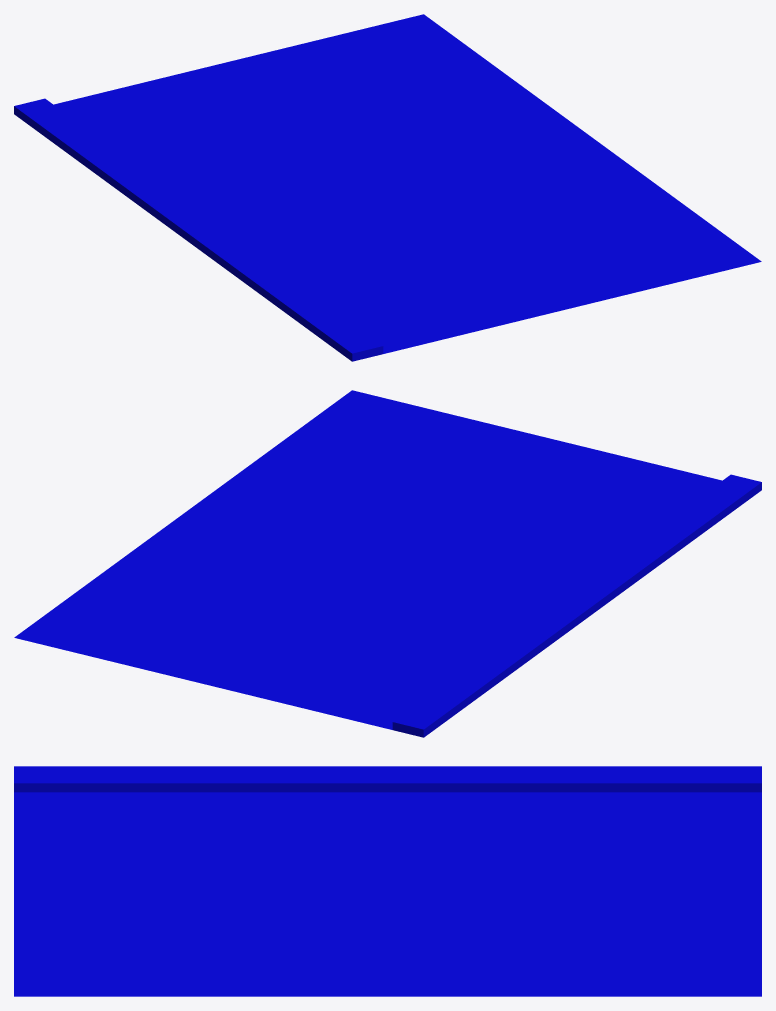
The model's file is path.fbx.
3 renders of one model, top to bottom at view 1: azimuth 30°, elevation 25°; view 2: azimuth 150°, elevation 25°; view 3: azimuth 270°, elevation 25°, orthographic. The views are drawn at different scales.
Visible parts, largest first — view 1: polySurface94; view 2: polySurface94; view 3: polySurface94.
Part boxes in pixels (box(x1,y1,x2,y2)): polySurface94: box(14, 14, 761, 361); polySurface94: box(14, 390, 761, 737); polySurface94: box(14, 766, 761, 996).
Size of the model in its own units: 1.71 by 0.0324 by 2.44.
